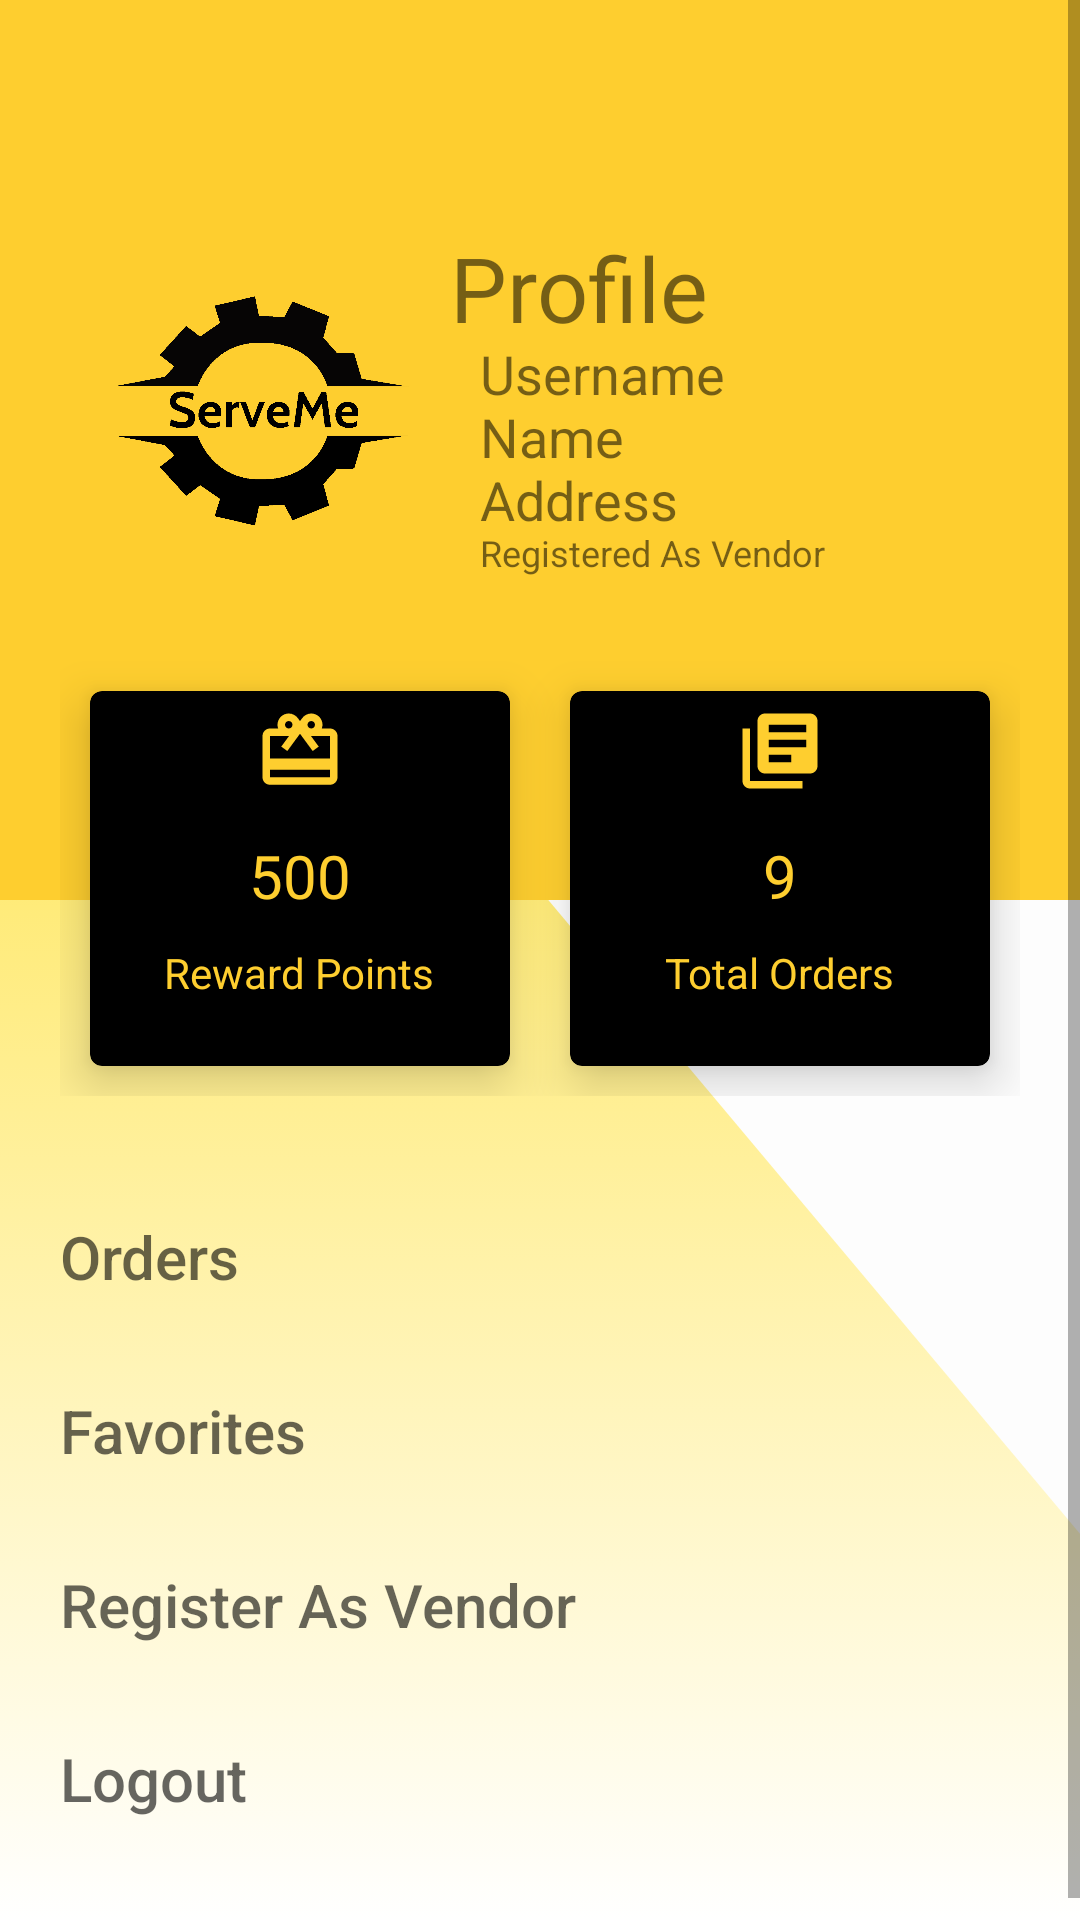

Icon click points for this 1080 × 1920 phone screenshot, format (x=x, y=y):
giftcard: (x=300, y=749)
